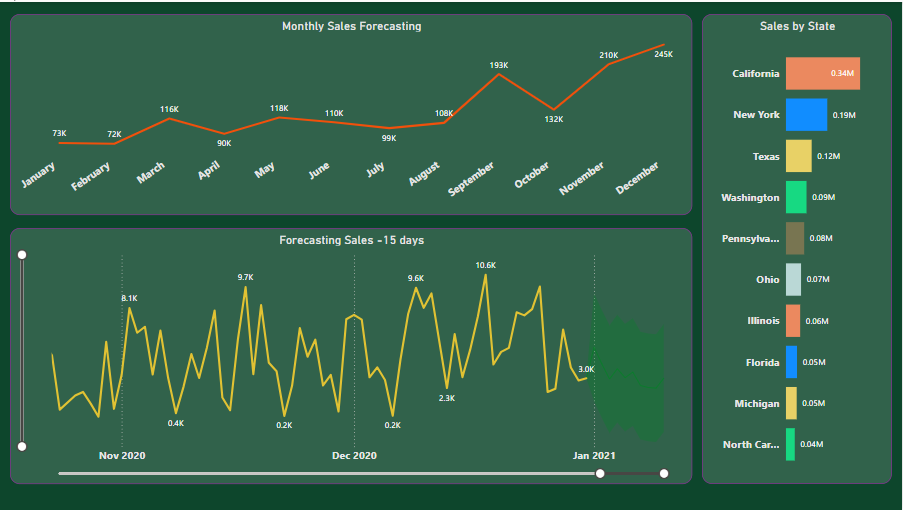

The dashboard page shown, as its layout file describes it:
{"tool":"powerbi","page":{"name":"Forecasting","canvas":[1280,720],"ordinal":1},"visuals":[{"type":"lineChart","title":"Monthly Sales Forecasting ","fields":{"Y":["Sum(SuperStore_Sales_Dataset.Sales)"],"Category":["SuperStore_Sales_Dataset.Order Date.Variation.Date Hierarchy.Month"]},"box":[17,17,966.6,284.9],"z":0},{"type":"lineChart","title":"Forecasting Sales -15 days","fields":{"Y":["Sum(SuperStore_Sales_Dataset.Sales)"],"Category":["SuperStore_Sales_Dataset.Order Date"]},"box":[17,320.3,966.6,362.8],"z":1000},{"type":"clusteredBarChart","title":"Sales by State","fields":{"Category":["SuperStore_Sales_Dataset.State"],"Y":["Sum(SuperStore_Sales_Dataset.Sales)"]},"box":[997.8,17,269.3,666.1],"z":2000}]}

Visuals, with their boxes in screenshot pixels (x1, y1, x2, y2), scaled from the page's 1280x720 canvas onto the 903x510 screenshot:
"Monthly Sales Forecasting " lineChart: box=[12, 12, 694, 214]
"Forecasting Sales -15 days" lineChart: box=[12, 227, 694, 484]
"Sales by State" clusteredBarChart: box=[704, 12, 894, 484]
